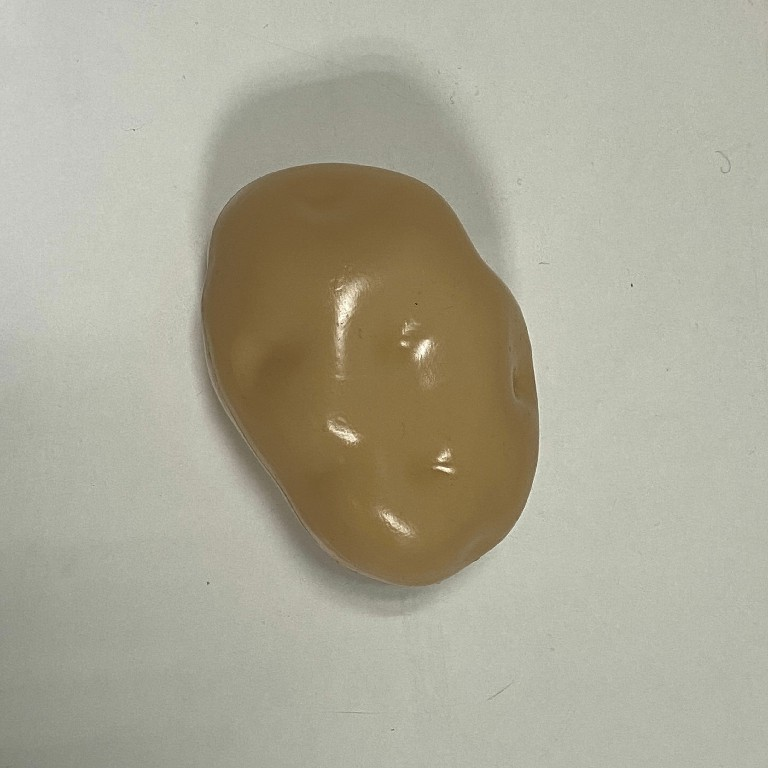fruit_potato: (195, 159, 542, 596)
